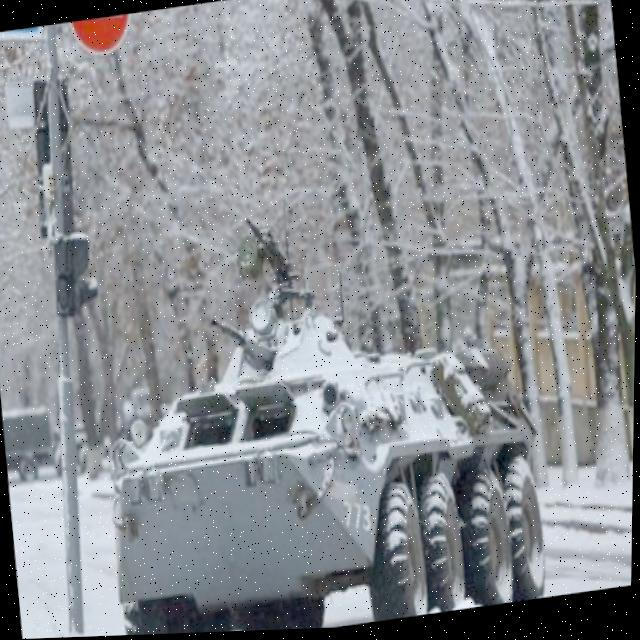MIL_APC: (89, 249, 585, 637)
